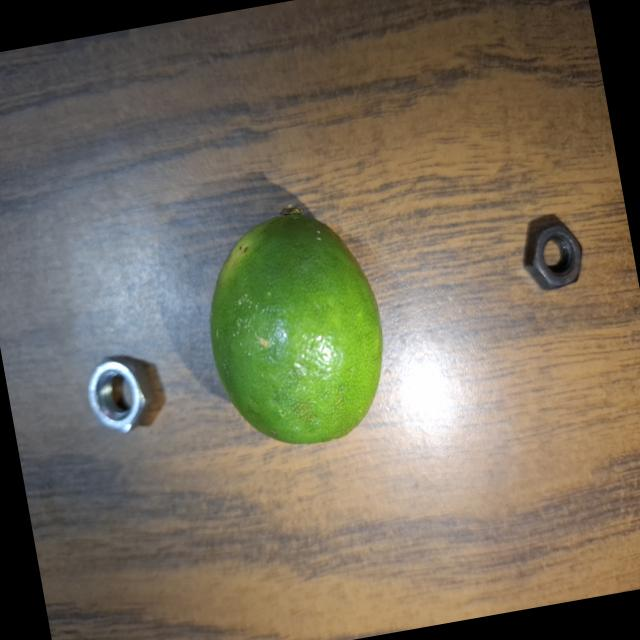limon: (184, 184, 402, 456)
milimetrico: (509, 204, 594, 306)
tuerca: (68, 336, 166, 451)
